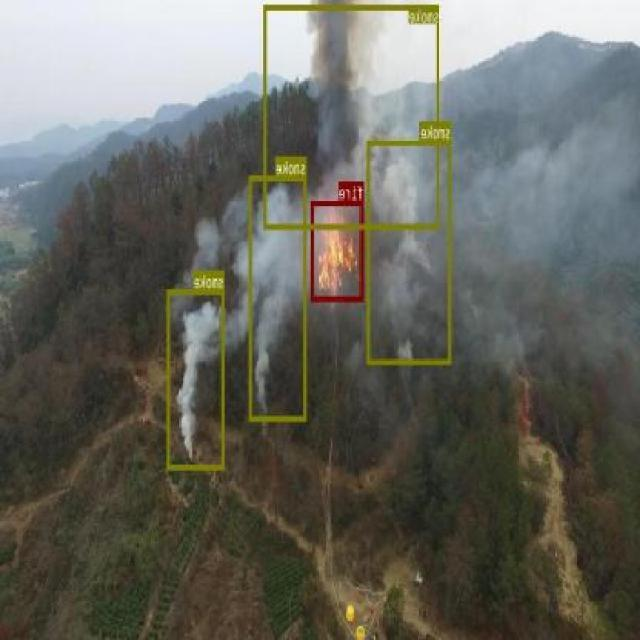fire: (312, 199, 366, 301)
smoke: (264, 4, 441, 228), (368, 140, 452, 362), (250, 175, 308, 420), (167, 288, 225, 470)
